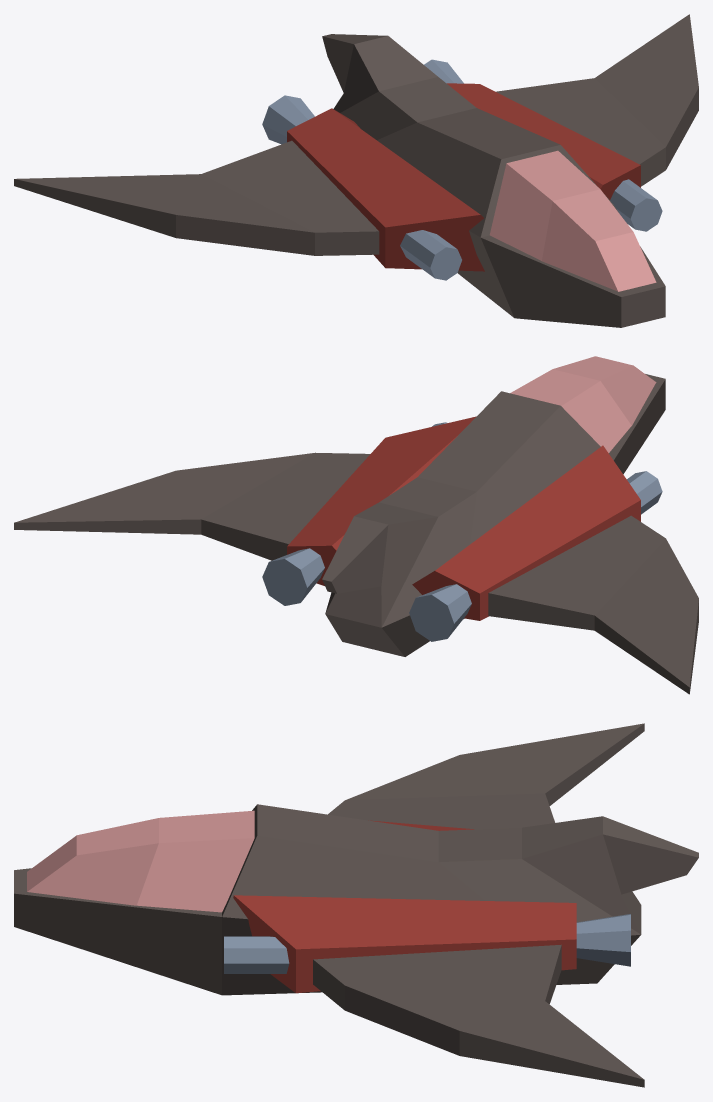
File: EnemyShip_0.fbx
3 views of the same model, one above another, from view 1: azimuth 30°, elevation 25°; view 2: azimuth 150°, elevation 25°; view 3: azimuth 270°, elevation 25° (orthographic). The views are drawn at different scales.
Parts seen in each view (by area): view 1: Cube, Cube.003, Cube.005, Cube.001, Cube.002, Cube.004, Cylinder.001, Cylinder, Cylinder.002, Cylinder.003; view 2: Cube, Cube.003, Cube.005, Cube.002, Cube.004, Cube.001, Cylinder.003, Cylinder.002, Cylinder.001; view 3: Cube, Cube.005, Cube.004, Cube.001, Cube.003, Cylinder.003, Cylinder.
Part boxes in pixels (left/top/right/bottom): Cube: left=322, top=34, right=665, bottom=327; Cube.003: left=14, top=140, right=379, bottom=255; Cube.005: left=496, top=14, right=698, bottom=186; Cube.001: left=489, top=150, right=656, bottom=291; Cube.002: left=287, top=108, right=484, bottom=271; Cube.004: left=447, top=83, right=640, bottom=199; Cylinder.001: left=400, top=230, right=461, bottom=280; Cylinder: left=610, top=179, right=662, bottom=231; Cylinder.002: left=262, top=95, right=314, bottom=144; Cylinder.003: left=424, top=59, right=463, bottom=83; Cube: left=322, top=374, right=665, bottom=656; Cube.003: left=488, top=515, right=698, bottom=694; Cube.005: left=14, top=452, right=369, bottom=560; Cube.002: left=412, top=445, right=640, bottom=620; Cube.004: left=287, top=416, right=476, bottom=585; Cube.001: left=510, top=356, right=656, bottom=452; Cylinder.003: left=262, top=548, right=324, bottom=605; Cylinder.002: left=409, top=584, right=471, bottom=641; Cylinder.001: left=627, top=471, right=662, bottom=514; Cube: left=14, top=804, right=698, bottom=995; Cube.005: left=313, top=944, right=644, bottom=1087; Cube.004: left=233, top=895, right=576, bottom=993; Cube.001: left=27, top=810, right=254, bottom=912; Cube.003: left=328, top=723, right=644, bottom=829; Cylinder.003: left=576, top=914, right=630, bottom=966; Cylinder: left=224, top=936, right=289, bottom=973.
Size of the model in its own units: 1216 by 252 by 987.
